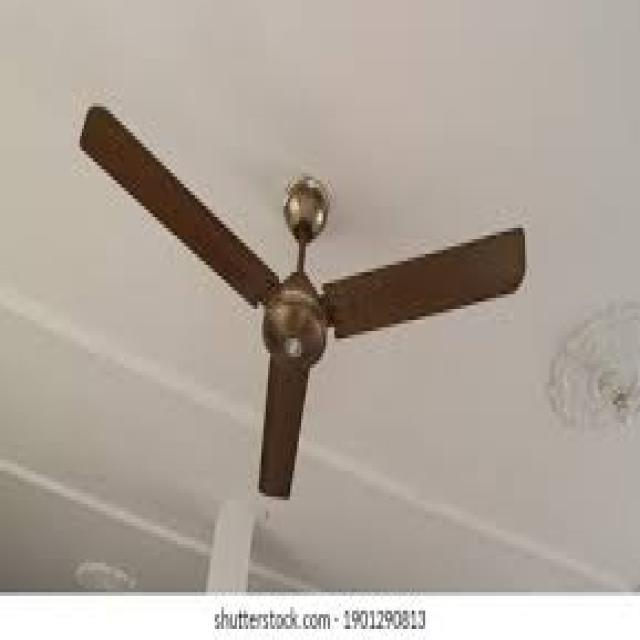fan_off: (78, 105, 520, 503)
